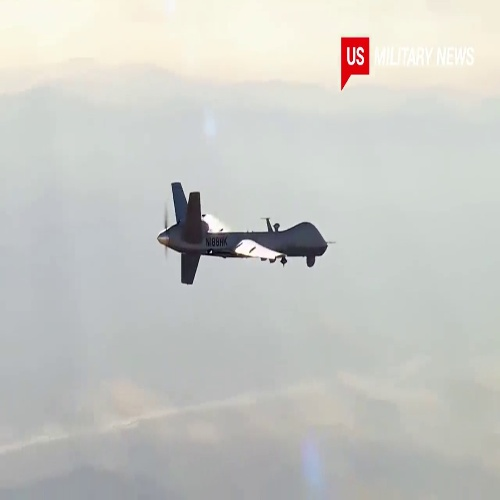uav: (150, 180, 337, 284)
